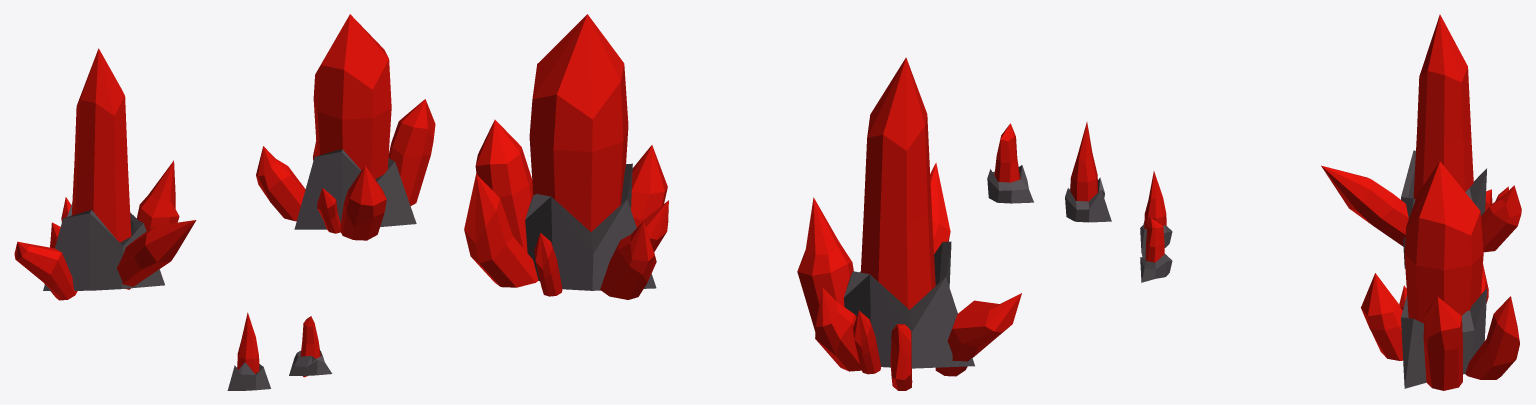
Rendered from CrystalCluster.fbx.
3 renders of one model, left to right at view 1: azimuth 30°, elevation 25°; view 2: azimuth 150°, elevation 25°; view 3: azimuth 270°, elevation 25°, orthographic. The views are drawn at different scales.
Parts seen in each view (by area): view 1: CrystalCluster2, CrystalCluster1, Small Crystal1, Small Crystal2; view 2: CrystalCluster2, CrystalCluster1, Small Crystal1, Small Crystal2; view 3: CrystalCluster2, CrystalCluster1, Small Crystal2, Small Crystal1.
Boxes of the visible parts, x1,y1,x2,y2 form: CrystalCluster2: [256, 14, 435, 240]; CrystalCluster1: [14, 48, 196, 300]; Small Crystal1: [227, 312, 270, 390]; Small Crystal2: [289, 316, 332, 377]; CrystalCluster2: [464, 14, 668, 299]; CrystalCluster1: [797, 57, 1021, 390]; Small Crystal1: [1065, 122, 1111, 222]; Small Crystal2: [987, 123, 1033, 203]; CrystalCluster2: [1361, 161, 1519, 390]; CrystalCluster1: [1321, 14, 1521, 268]; Small Crystal2: [1140, 218, 1172, 282]; Small Crystal1: [1140, 171, 1172, 253].
Bounding box in the file's own units: 1306 × 717 × 1040.
